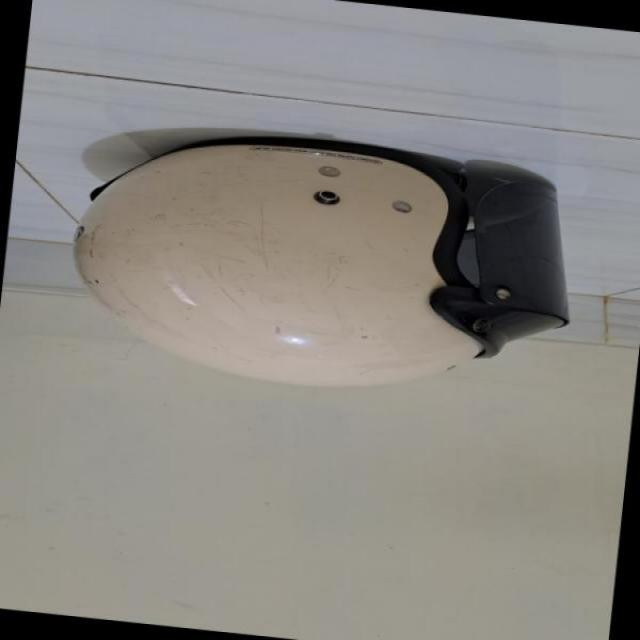Helmet: (58, 117, 572, 387)
